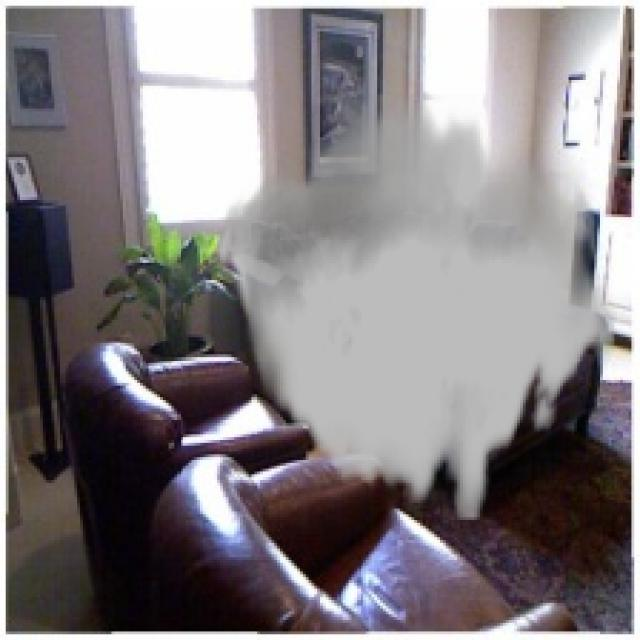smoke: (214, 94, 617, 520)
